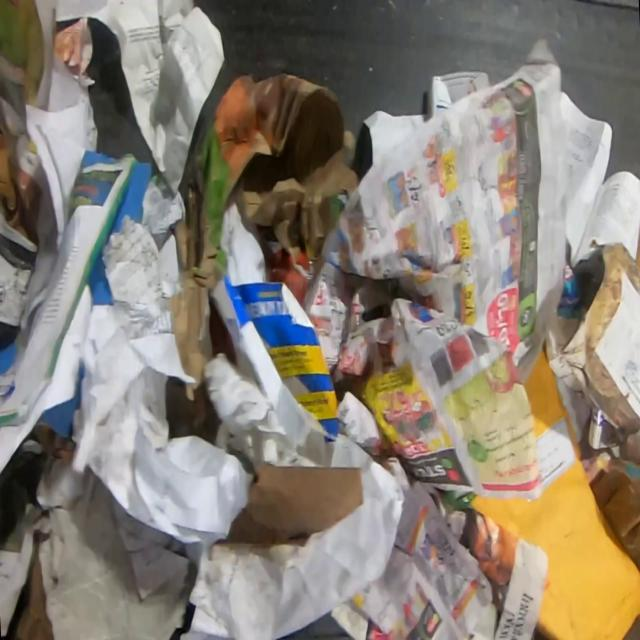cardboard: (170, 72, 362, 402), (466, 346, 640, 640), (214, 463, 365, 548), (588, 468, 640, 574)
